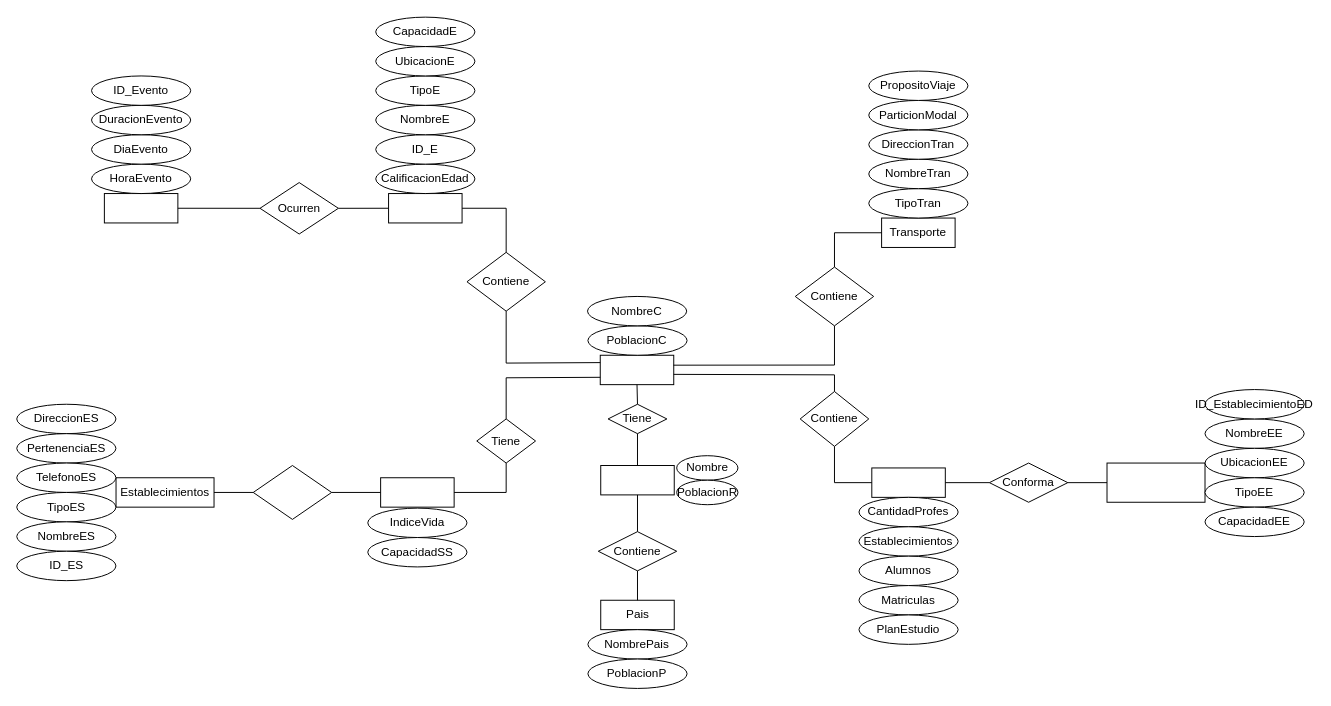
This 1331x706 diagram has some shape labels left out. The shapes that lost their labels are listed below. From the top down, each one's centre as x and y in pixels, then its label:
At (x=140, y=208): "Eventos".
At (x=425, y=208): "Entretenciòn".
At (x=636, y=369): "Comuna".
At (x=292, y=492): "Se conforma".
At (x=417, y=492): "Salud".
At (x=637, y=480): "Region".
At (x=908, y=482): "Educacion".
At (x=1155, y=482): "Establecimiento Educacional".
